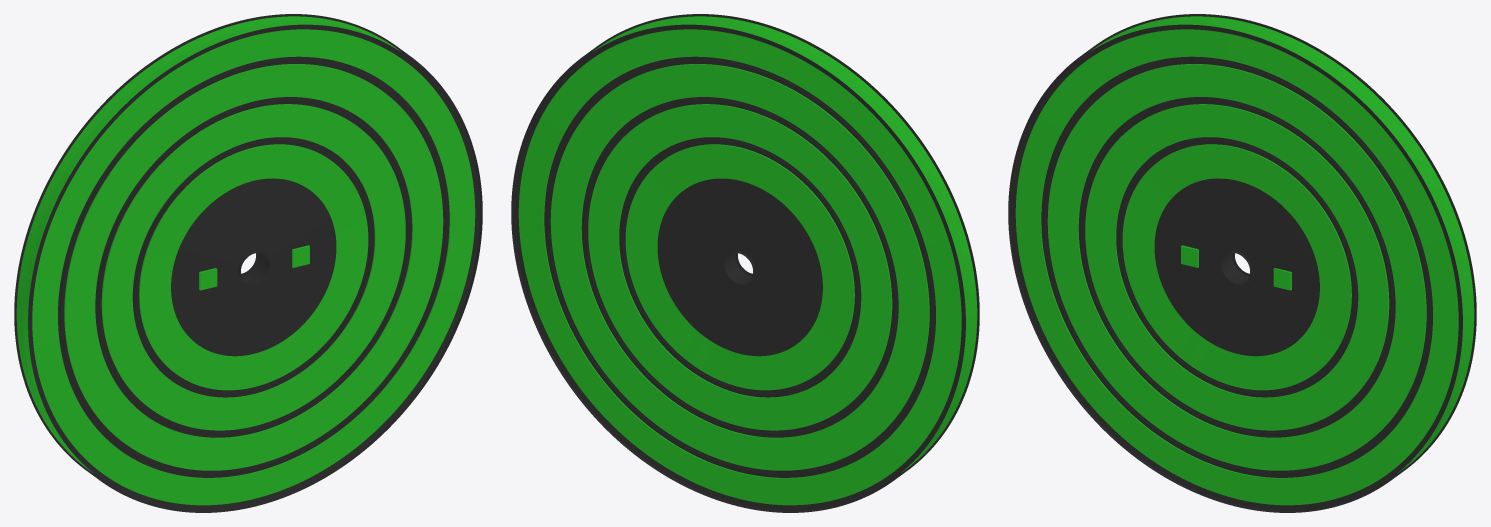
File: Disco.glb
3 renders of one model, left to right at view 1: azimuth 30°, elevation 25°; view 2: azimuth 150°, elevation 25°; view 3: azimuth 330°, elevation 25°, orthographic.
Visible parts, largest first — view 1: Squares_Disco; view 2: Squares_Disco; view 3: Squares_Disco.
Part boxes in pixels (bbox=[...]): Squares_Disco: bbox=[14, 14, 482, 512]; Squares_Disco: bbox=[511, 14, 979, 512]; Squares_Disco: bbox=[1008, 14, 1476, 512].
Size of the model in its own units: 2 by 2 by 0.1013.
